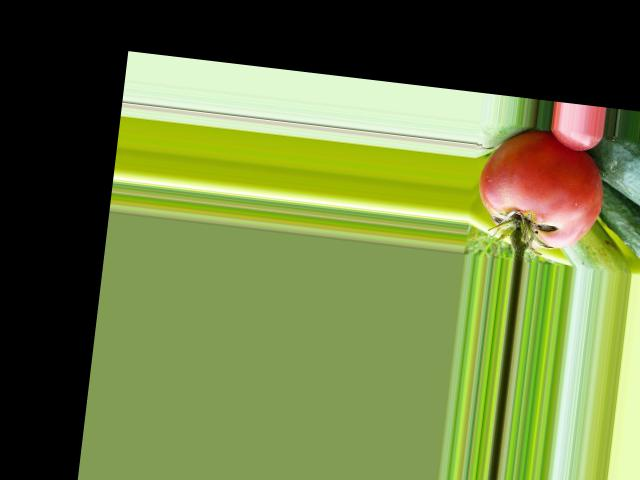tomato: (472, 123, 609, 252)
